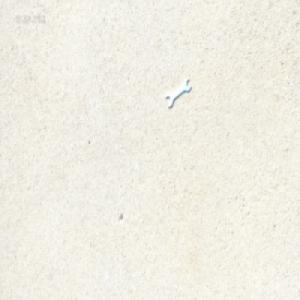Wrench: (165, 80, 189, 109)
